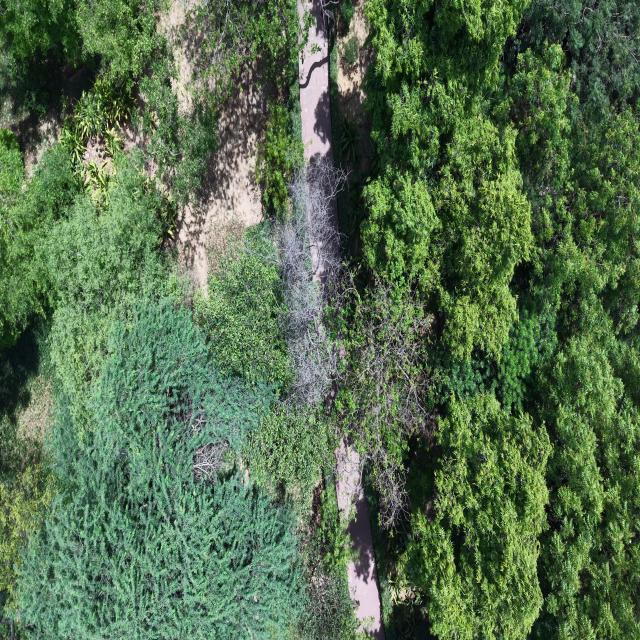DRY_AREA: (178, 68, 266, 285), (178, 69, 266, 285), (178, 69, 266, 284), (336, 439, 384, 639), (336, 440, 384, 639), (337, 0, 372, 178), (298, 0, 333, 161), (0, 96, 63, 176), (337, 1, 371, 118), (11, 111, 61, 176), (17, 376, 53, 442)
VEGETATION_TREE: (0, 0, 639, 639), (0, 2, 356, 638), (339, 0, 639, 639), (0, 154, 354, 637), (0, 0, 299, 343), (18, 300, 302, 637), (0, 146, 178, 615), (195, 165, 357, 639), (0, 0, 305, 204), (362, 79, 531, 360), (195, 223, 334, 501), (402, 394, 550, 639), (39, 153, 172, 405), (336, 286, 427, 526), (0, 0, 170, 110), (0, 0, 161, 113), (276, 158, 348, 406), (0, 133, 81, 346), (0, 322, 54, 613), (195, 226, 291, 385), (140, 43, 219, 206), (188, 0, 309, 101), (297, 473, 365, 639), (61, 78, 134, 204), (246, 405, 334, 500), (0, 463, 54, 609), (0, 130, 29, 347), (255, 102, 303, 219), (0, 129, 23, 215), (341, 113, 361, 166), (344, 35, 359, 66), (341, 0, 354, 27)
